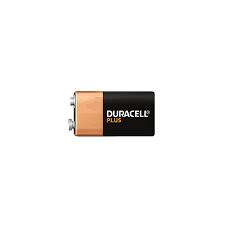9V Battery: (67, 91, 155, 137)
